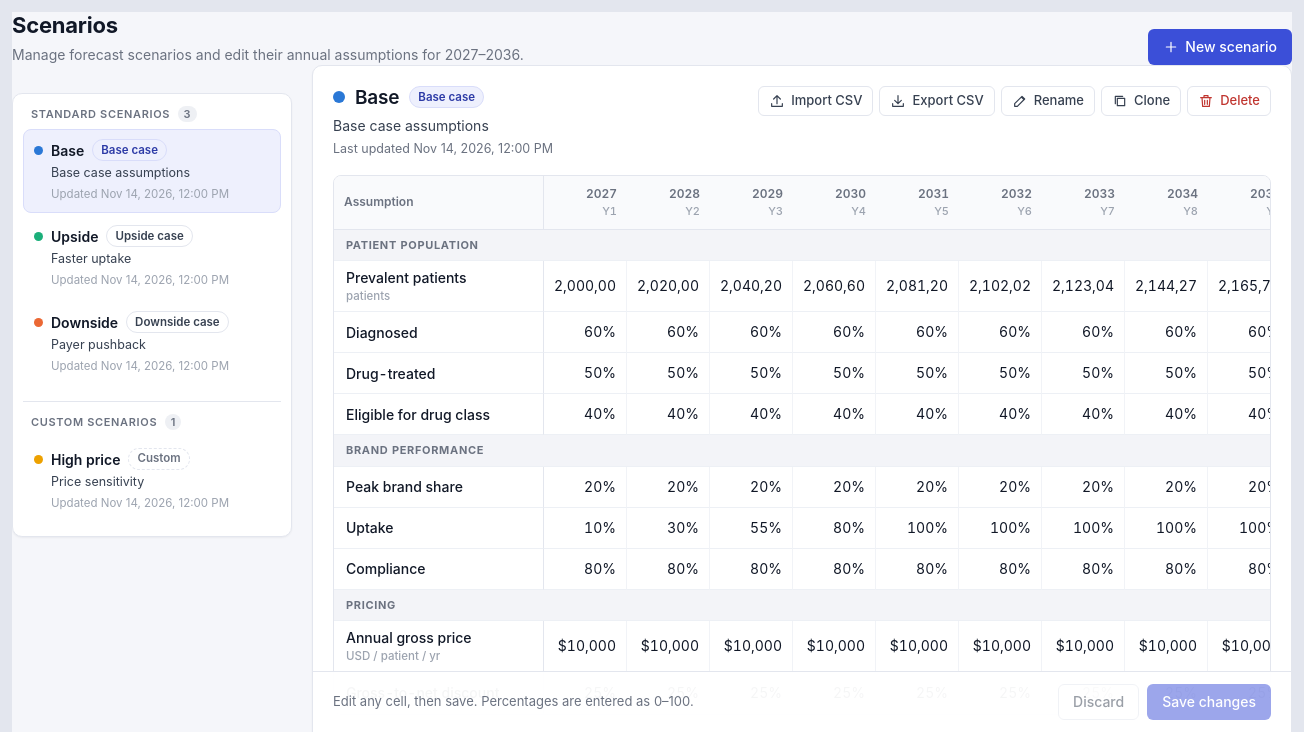
Scenario: ScenariosPage – input grid › discards unsaved edits
Expected: the table is shown, [334,176,1271,714]
Replace the text in the field named "Diagnosed, 2027" with "70": x=585, y=332 [544,312,626,352]
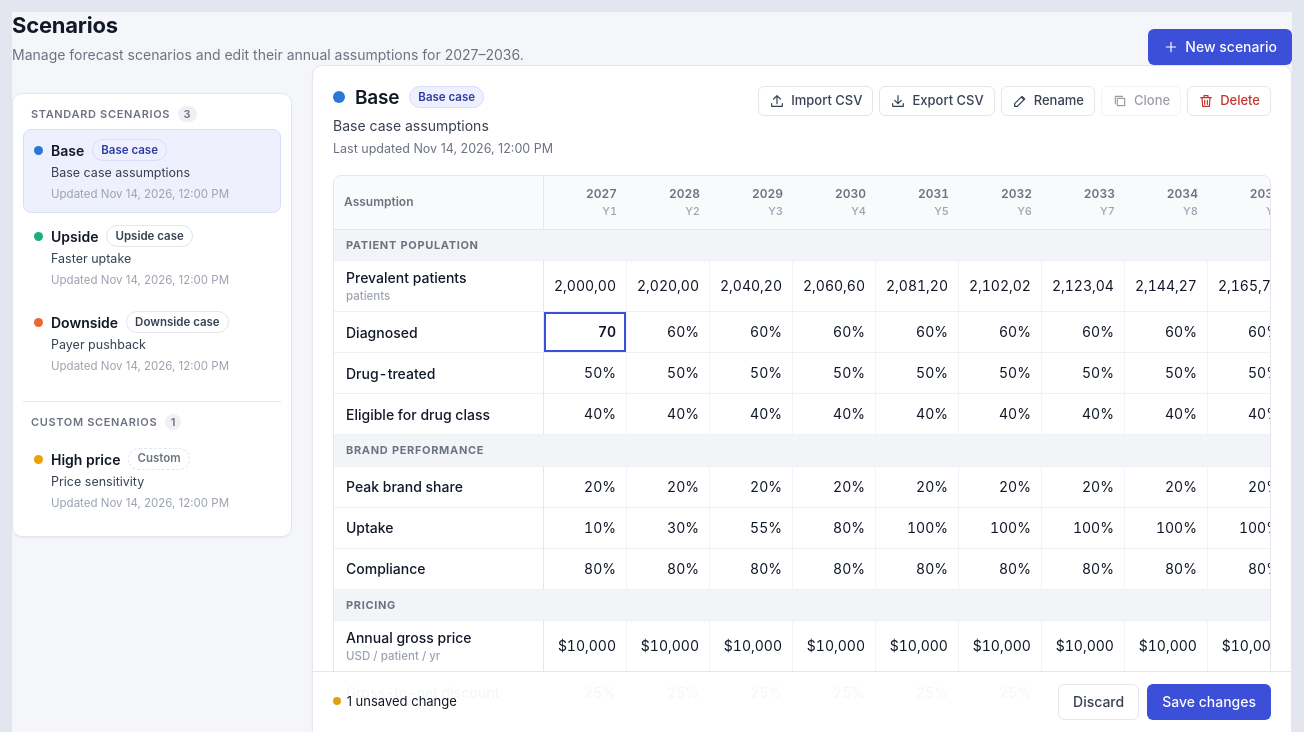
Click the button "Discard": x=1099, y=702 [1058,684,1139,720]
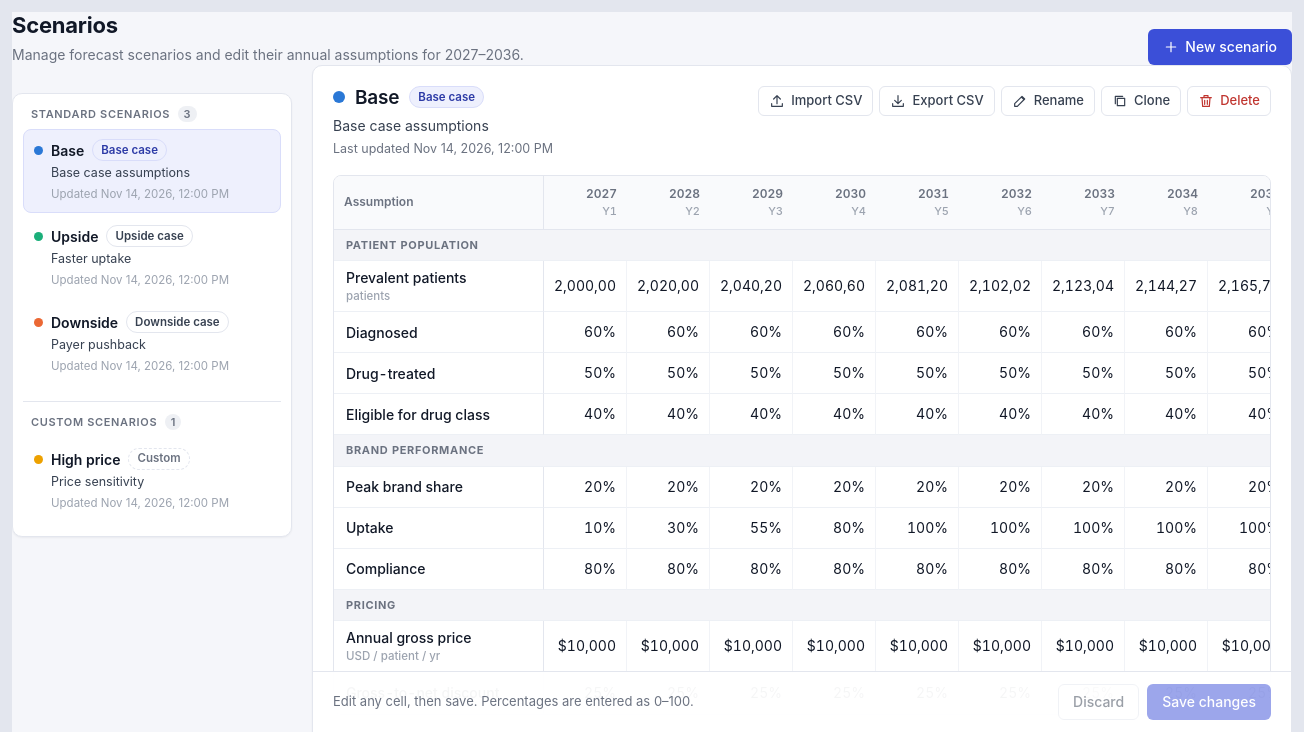
Result: the button "Save changes" is disabled at [1147,684,1271,720]
